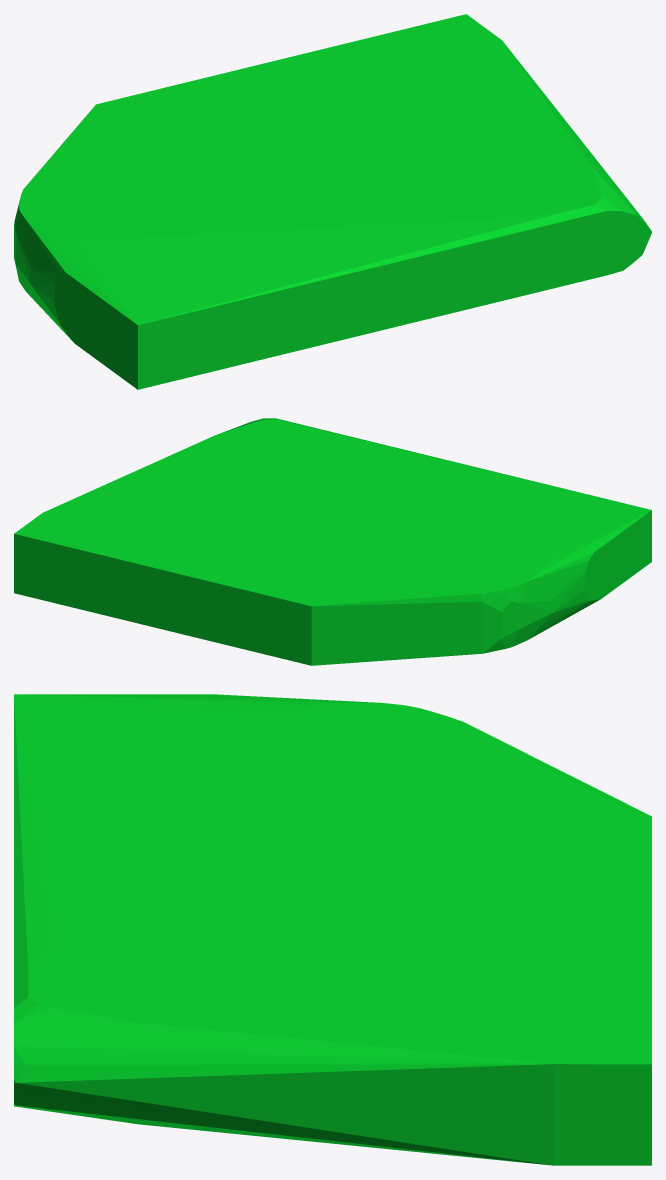
File: model0_convex_piece_022.obj
The picture shows the model from 3 angles, top to bottom: view 1: azimuth 30°, elevation 25°; view 2: azimuth 150°, elevation 25°; view 3: azimuth 270°, elevation 25°; orthographic projection. The views are drawn at different scales.
Size of the model in its own units: 0.0253 by 0.00319 by 0.0182.
